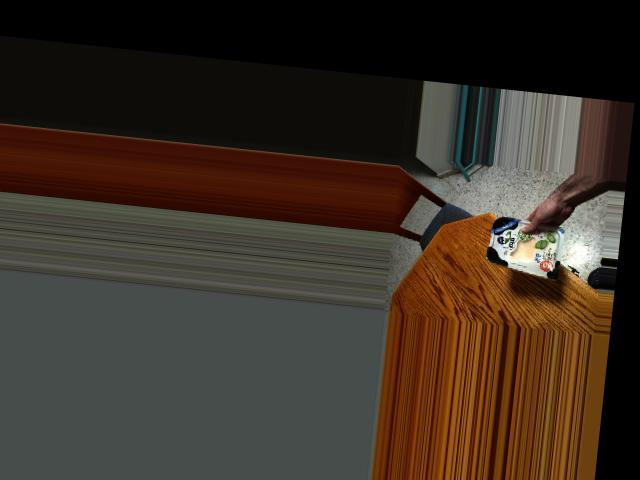cheese: (488, 216, 559, 275)
